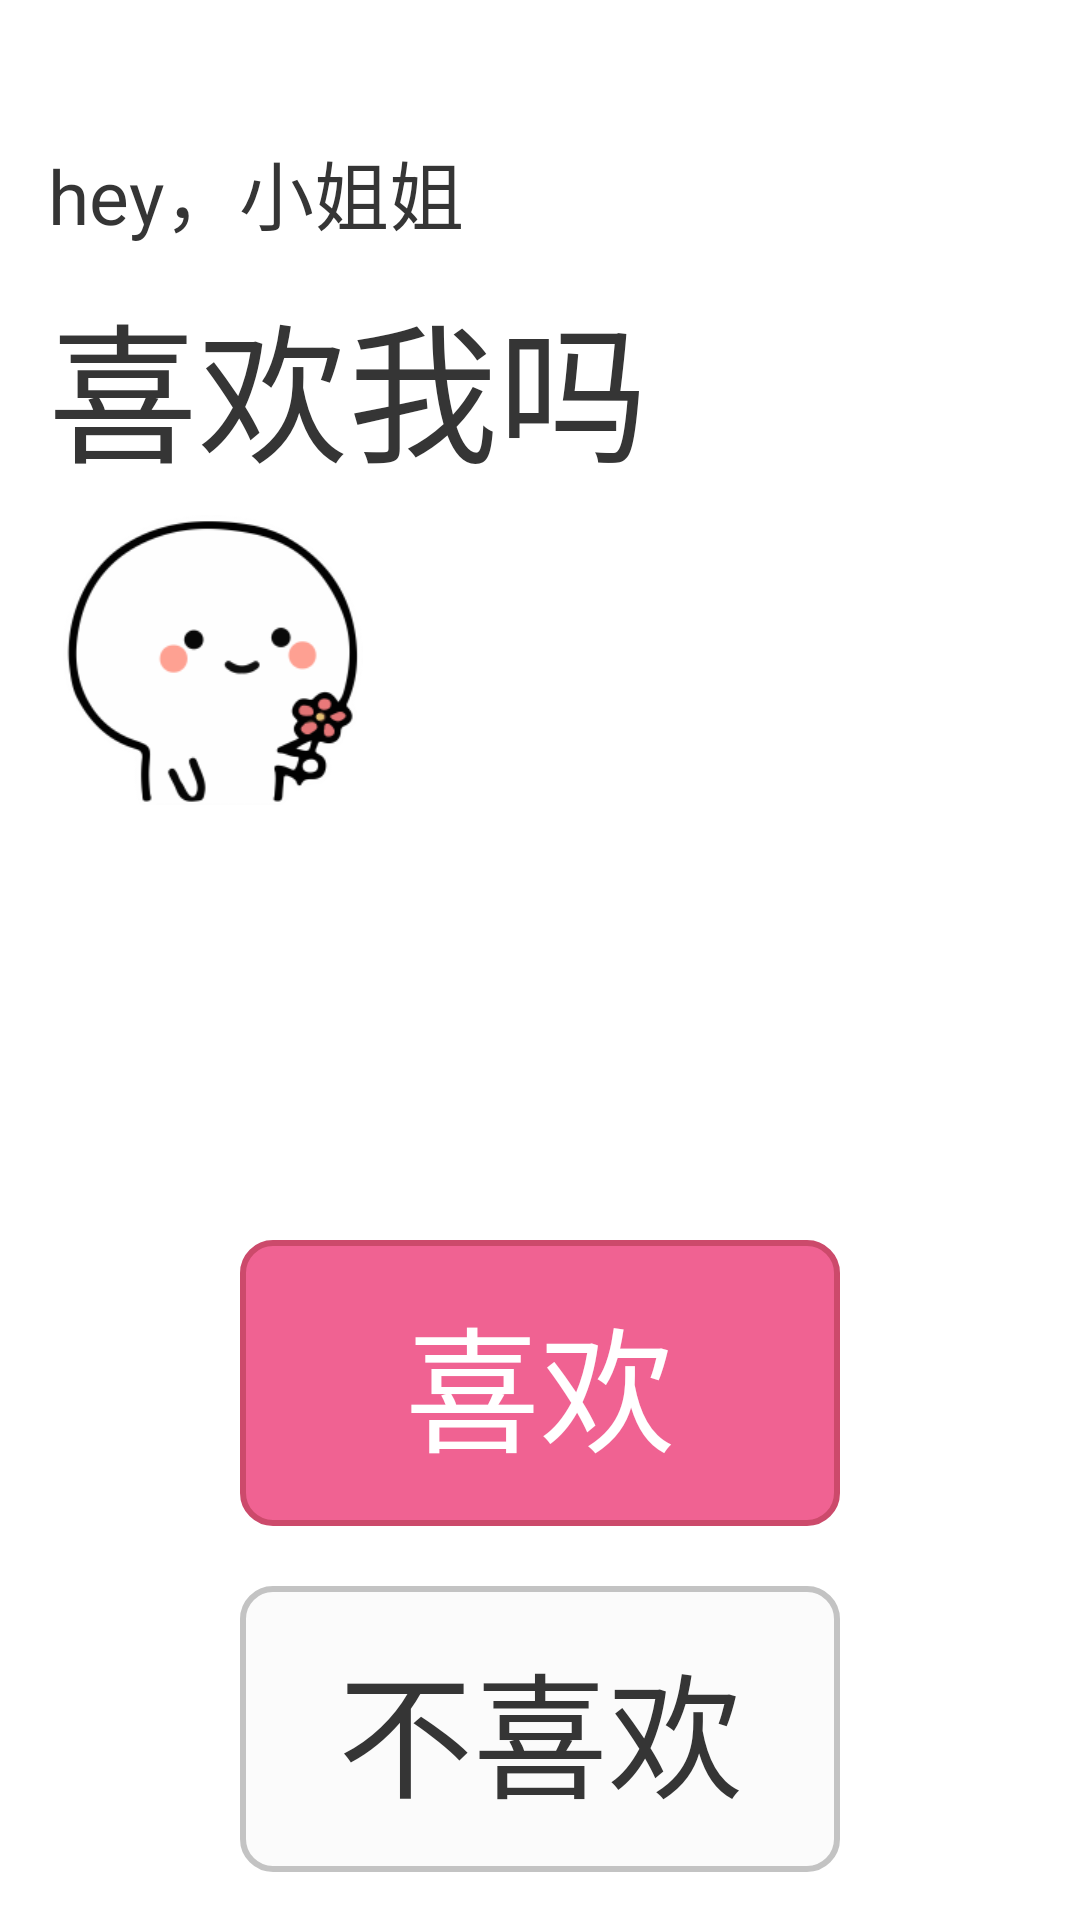

Icon bounding boxes for this 1080*1920 phone screenshot, format (x1, y1, x2, y2):
emoji give you flower: (67, 521, 358, 802)
